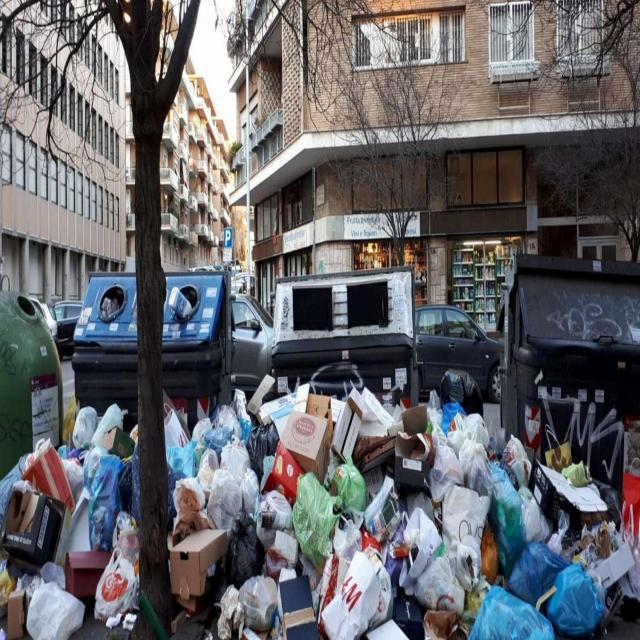garbage: (0, 382, 640, 640)
